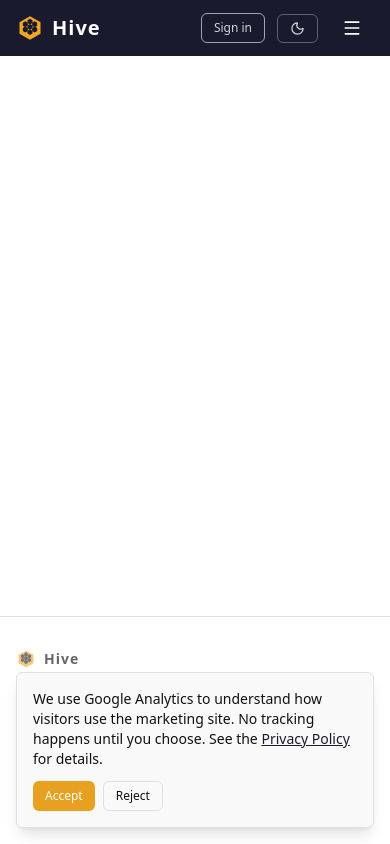
Test case: PageLayout › mobile drawer lists every nav link; Sign in + theme toggle live in the navbar
This screenshot has width=390, height=844.
Click the button named "Open menu": (352, 28) left=330, top=12, right=374, bottom=44
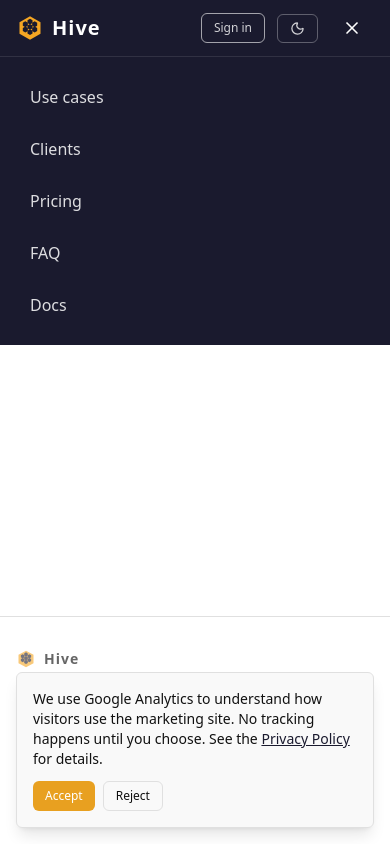
Result: the navigation bar is shown at left=30, top=86, right=104, bottom=316
Result: the link "Use cases" is shown at left=30, top=86, right=104, bottom=108
Result: the link "Clients" is shown at left=30, top=138, right=81, bottom=160
